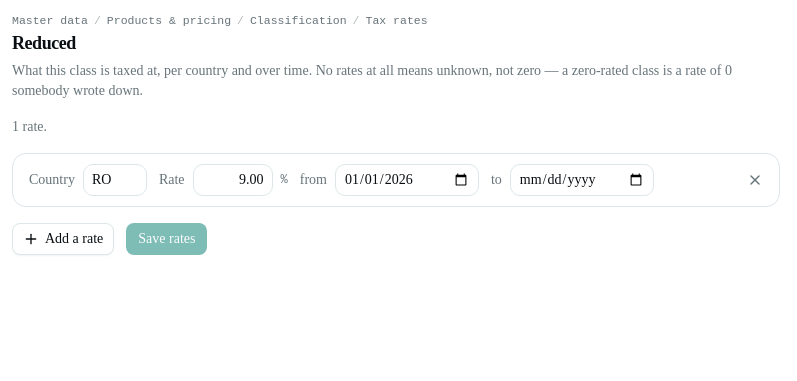
Test: <TaxRates> › catches the same country and start date twice, which the API refuses as a set
expect the button "Save rates" is shown: met, box [126, 223, 208, 255]
Click the button "Add a rate" at (63, 239), box [12, 223, 114, 255]
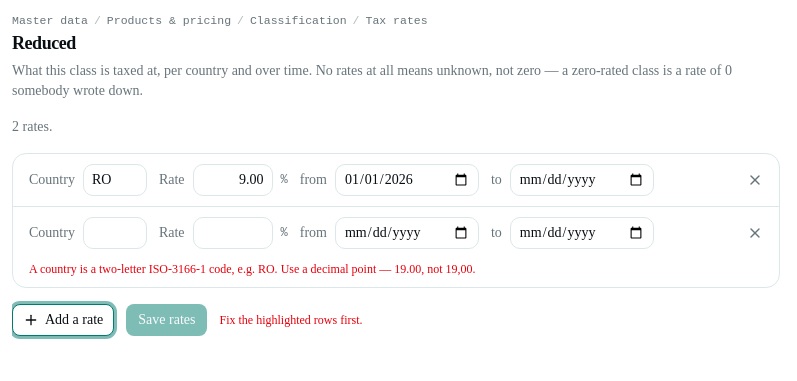
Type "RO" into the field named "Country, rate 2" at (115, 233), box [83, 217, 147, 249]
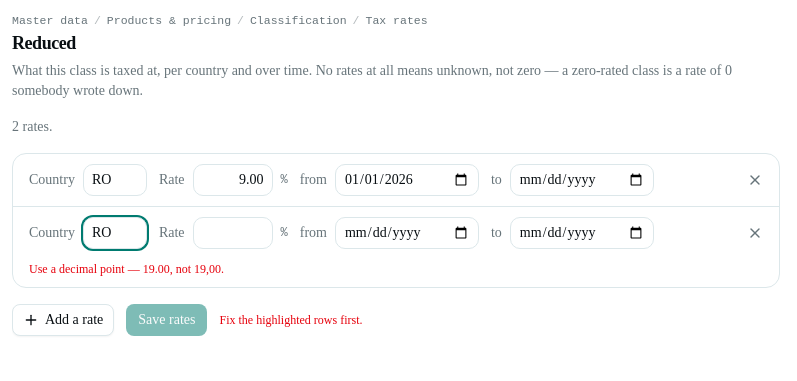
Type "5.00" into the field named "Percentage, rate 2" at (232, 233), box [192, 217, 272, 249]
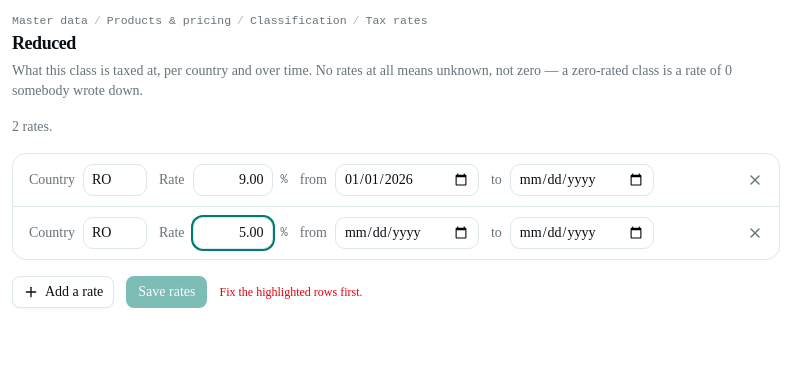
Type "2026-01-01" into the date field named "Applies from, rate 2" at (407, 233), box [335, 217, 479, 249]
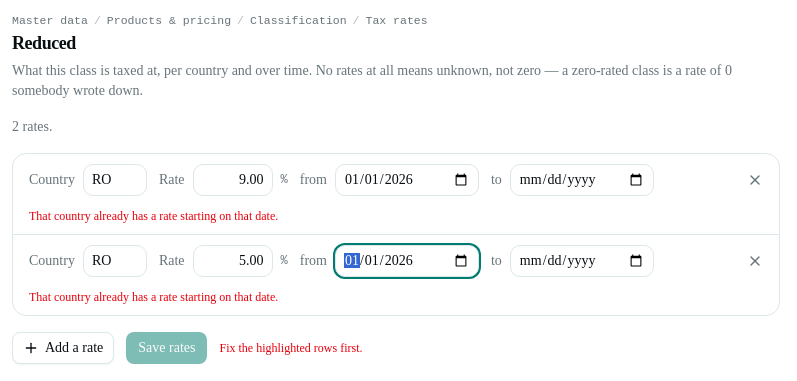
expect the button "Save rates" is disabled: met, box [126, 332, 208, 364]
expect the 1st text "That country already has a rate starting on that date." is shown: met, box [29, 209, 278, 223]
